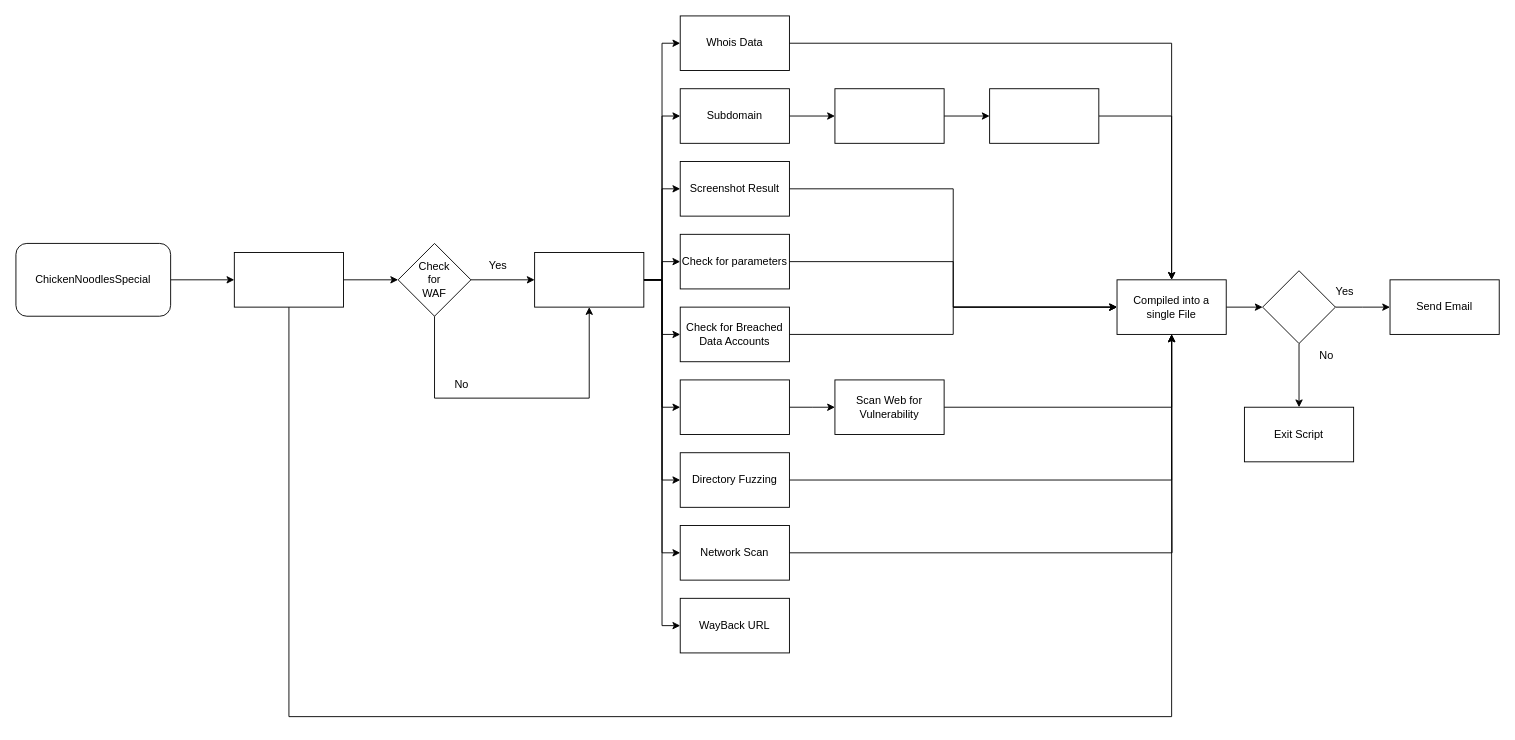
The diagram is 1515 pixels wide and 740 high, and some of its shapes have lost their labels. The centre of each missing label's shape, as x and y in pixels:
Check For Alive Subdomain: the point at 889,115
Check for Subdomain takeover: the point at 1044,115
Continue Scan: the point at 589,279
Identify CMS Used: the point at 734,407
Scan Cloud Assets GCP/AWS/Azure: the point at 288,279
Send Via Email?: the point at 1298,307
